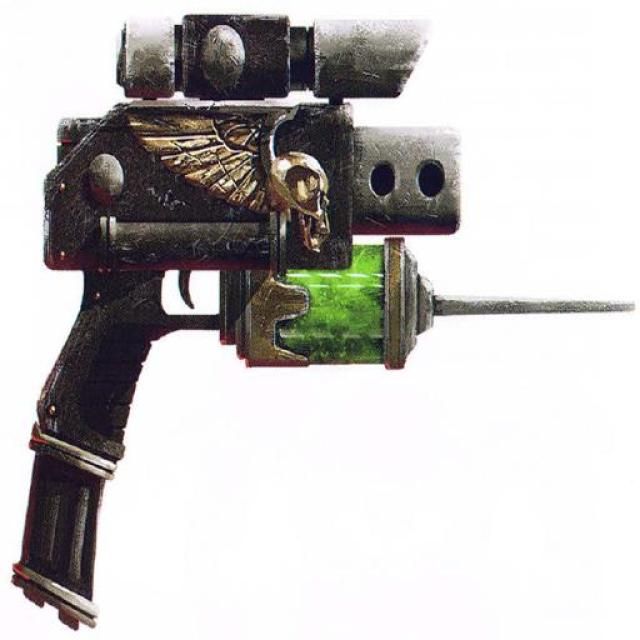pistol: (31, 17, 453, 626)
